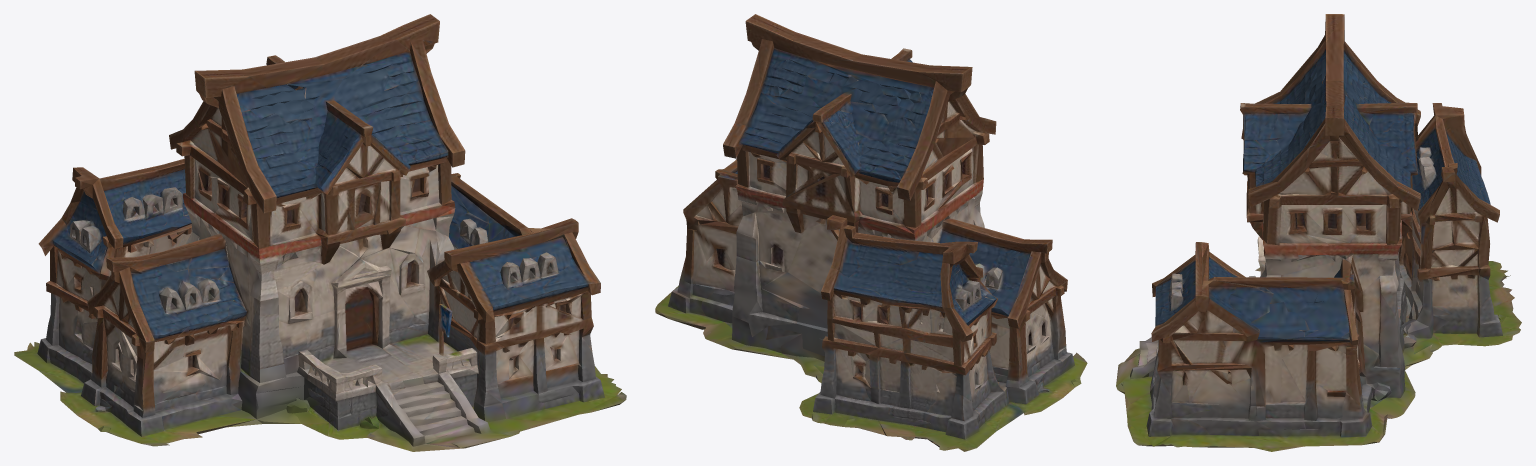
File: towncenter.glb
3 views of the same model, side by side, from view 1: azimuth 30°, elevation 25°; view 2: azimuth 150°, elevation 25°; view 3: azimuth 270°, elevation 25° (orthographic). The views are drawn at different scales.
Bounding box in the file's own units: 1.9 × 1.31 × 1.65.
Materials: 1 (1 with a texture image).
